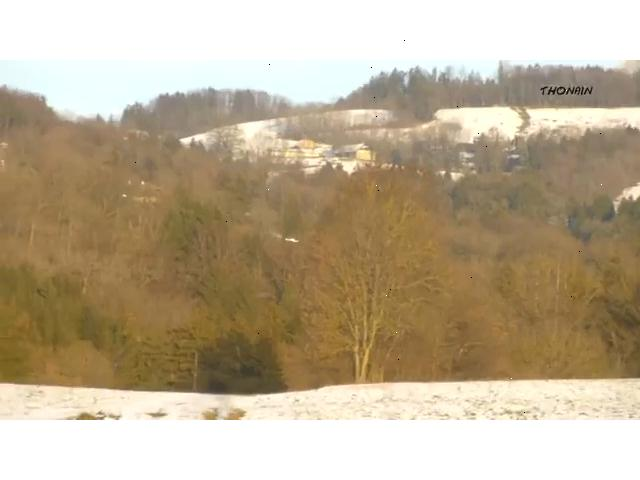Anti-Drone: (276, 232, 302, 248)
